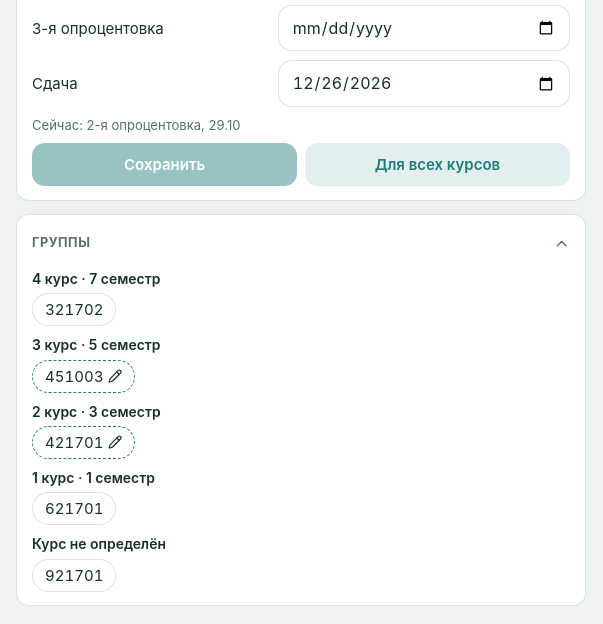
Test: администратор › курс группы меняется сразу и возвращается к номеру
The image size is (603, 624).
(page scrolled)
Click the button "421701": (84, 442) [32,426,135,459]
(page scrolled)
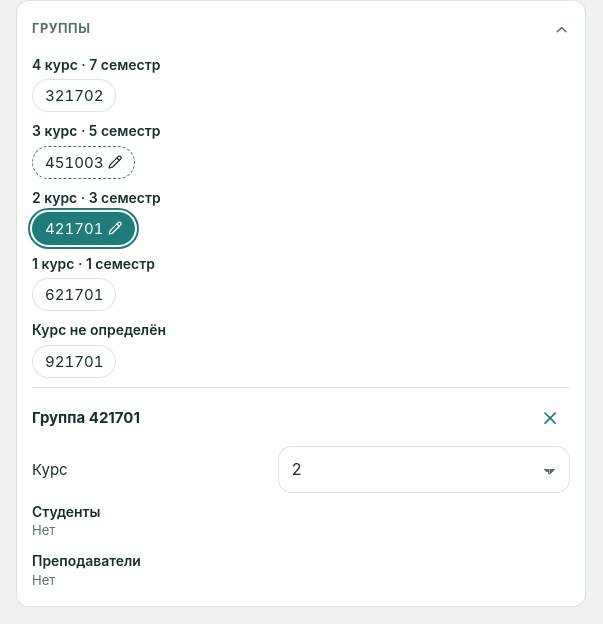
Expected: the text "Группа 421701" is shown, [32,407,140,428]
Expected: the dropdown labelled "Курс" shows "2"
Select "По номеру (3)" in the dropdown labelled "Курс": (424, 470) [278,446,570,493]
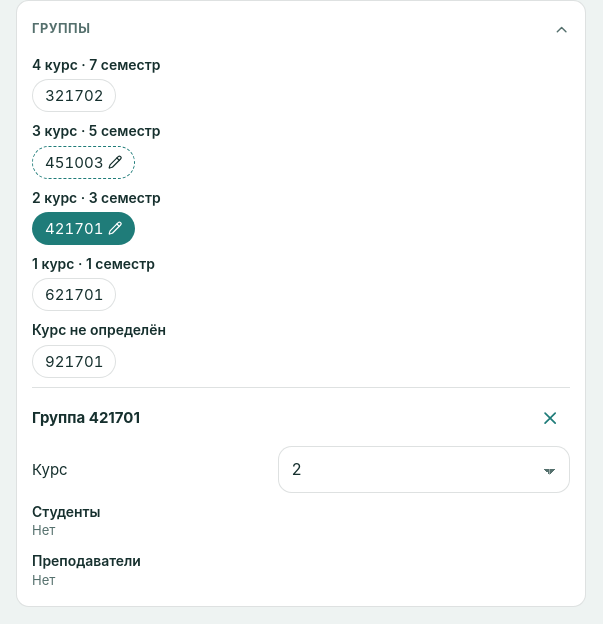
Click the button "621701": (74, 295) [32,278,116,311]
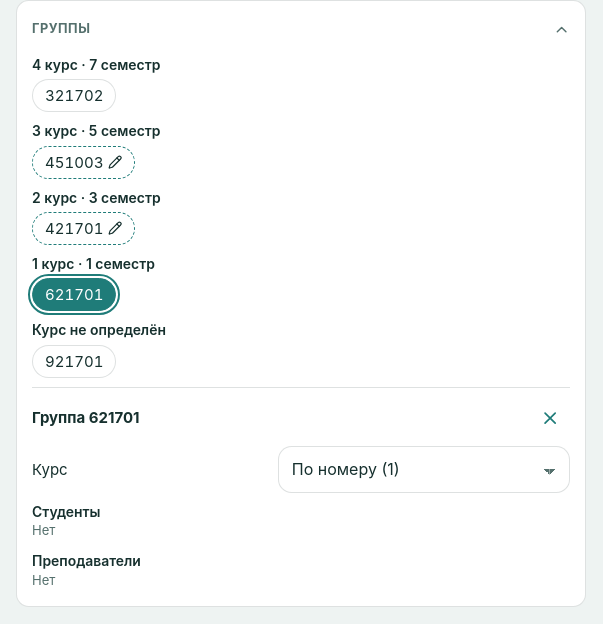
Select "3" in the dropdown labelled "Курс": (424, 470) [278,446,570,493]
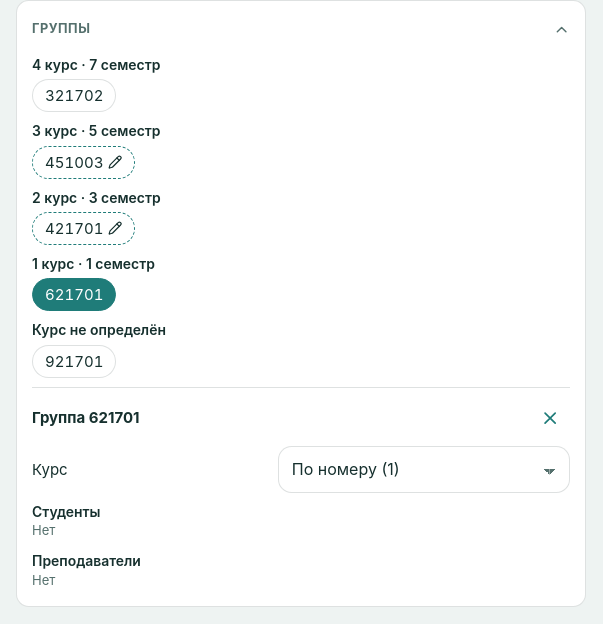
Click the button "921701": (74, 361) [32,345,116,378]
(page scrolled)
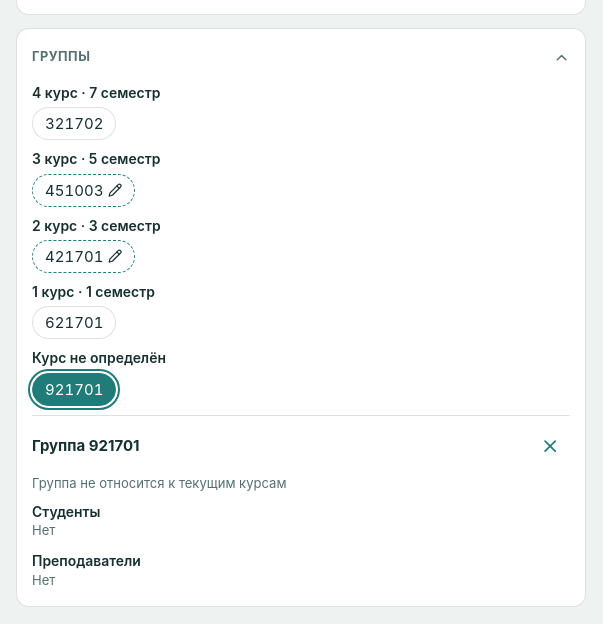
Expected: the text "Группа не относится к текущим курсам" is shown, [32,475,286,491]
